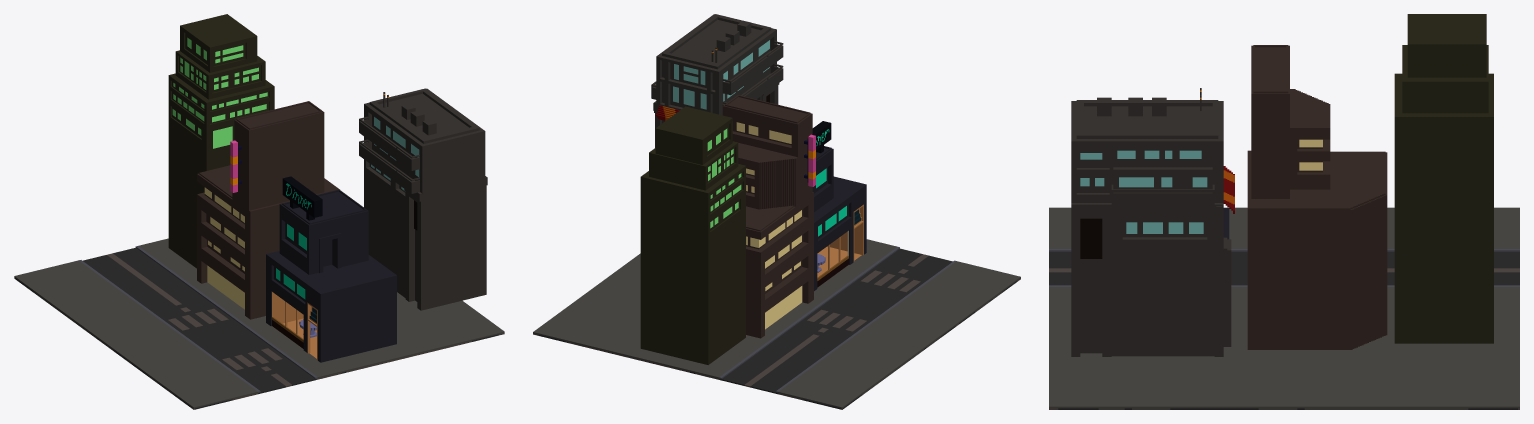
Rendered from Street5.obj.
3 views of the same model, side by side, from view 1: azimuth 30°, elevation 25°; view 2: azimuth 150°, elevation 25°; view 3: azimuth 270°, elevation 25° (orthographic). The views are drawn at different scales.
Size of the model in its own units: 25.6 by 17.7 by 25.6.
1 material, 1 textured.
